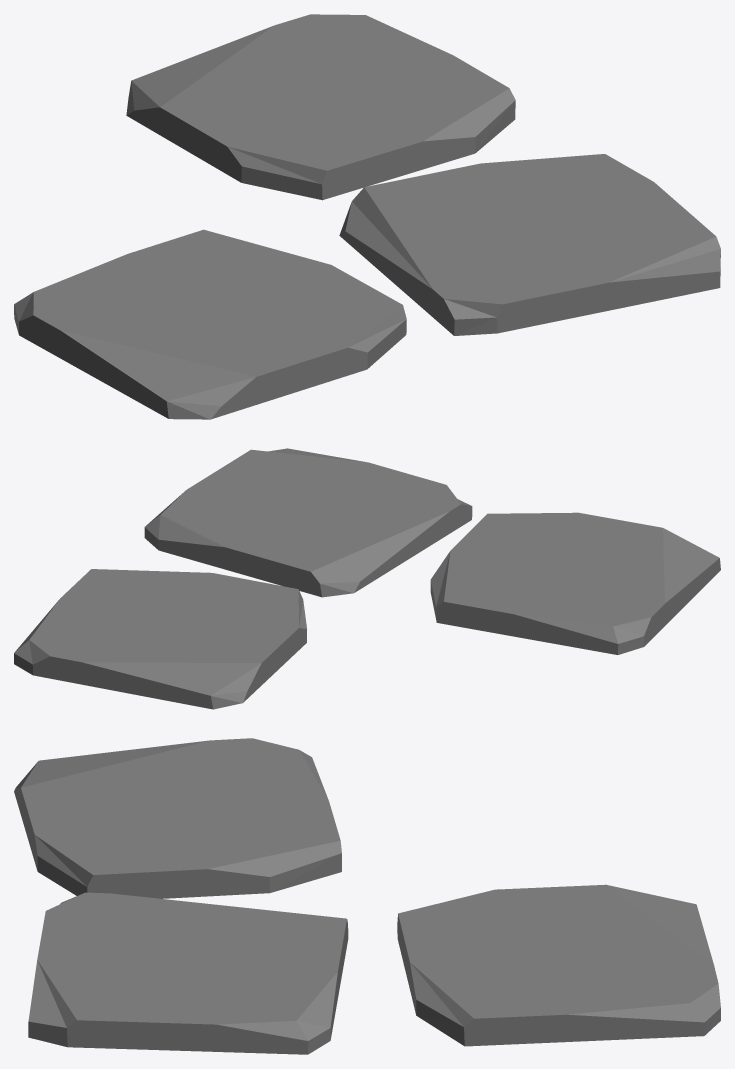
The model's file is Tile_09.FBX.
3 views of the same model, one above another, from view 1: azimuth 30°, elevation 25°; view 2: azimuth 150°, elevation 25°; view 3: azimuth 270°, elevation 25° (orthographic). The views are drawn at different scales.
Parts seen in each view (by area): view 1: Tile_09; view 2: Tile_09; view 3: Tile_09.
Boxes of the visible parts, box(x1,y1,x2,y2) form: Tile_09: box(14, 14, 720, 419); Tile_09: box(14, 448, 720, 709); Tile_09: box(14, 738, 720, 1054).
Bounding box in the file's own units: 3.41 × 0.15 × 3.51.
